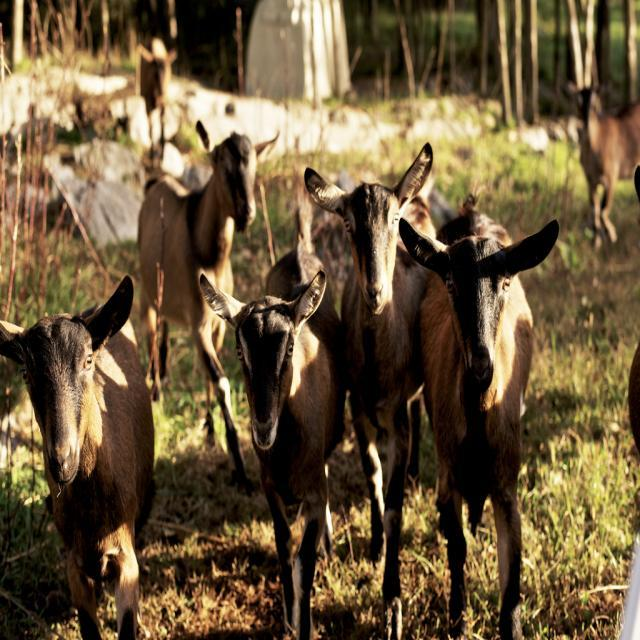Goat: (397, 196, 559, 638), (303, 141, 438, 637), (0, 274, 155, 638), (198, 265, 347, 638), (136, 119, 280, 495), (566, 77, 639, 251)
